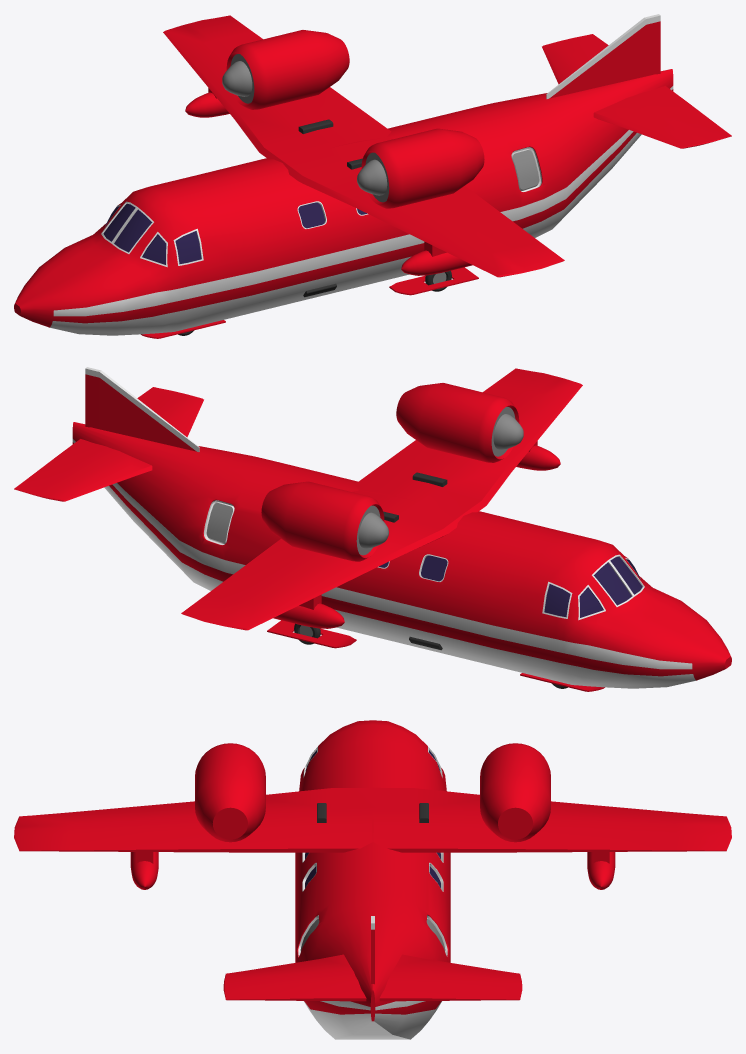
3 renders of one model, top to bottom at view 1: azimuth 30°, elevation 25°; view 2: azimuth 150°, elevation 25°; view 3: azimuth 270°, elevation 25°, orthographic. The views are drawn at different scales.
Parts seen in each view (by area): view 1: Cylinder.090; view 2: Cylinder.090; view 3: Cylinder.090.
Part boxes in pixels (<box>): Cylinder.090: <box>14,14,731,338</box>; Cylinder.090: <box>14,367,731,691</box>; Cylinder.090: <box>14,720,731,1039</box>.
Size of the model in its own units: 2010 by 607 by 1805.
